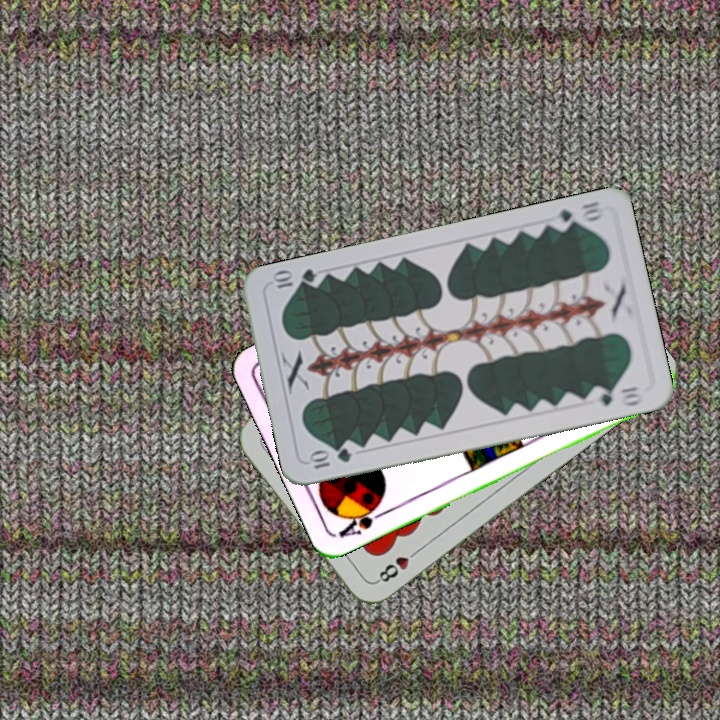G10: (547, 197, 608, 234), (305, 444, 354, 472)
H8: (372, 545, 422, 586)
SA: (334, 498, 390, 541)
